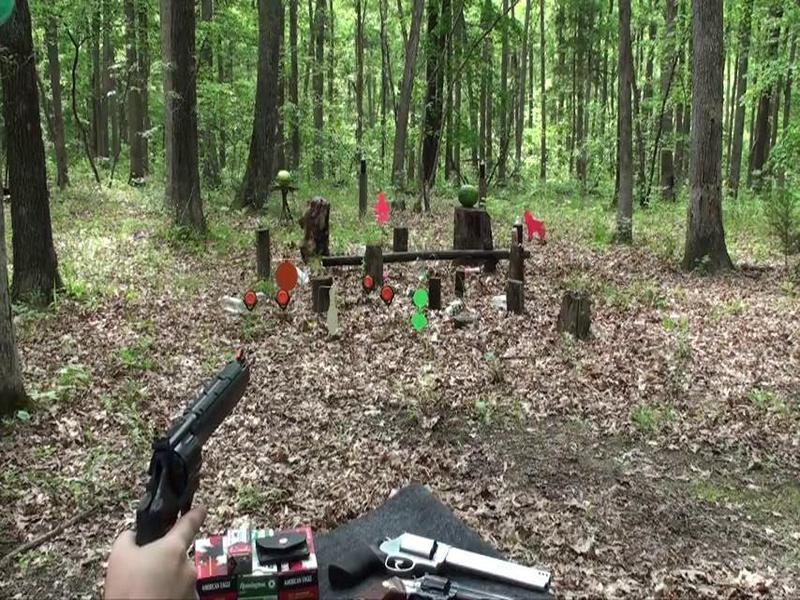Revolver: (113, 351, 280, 551)
